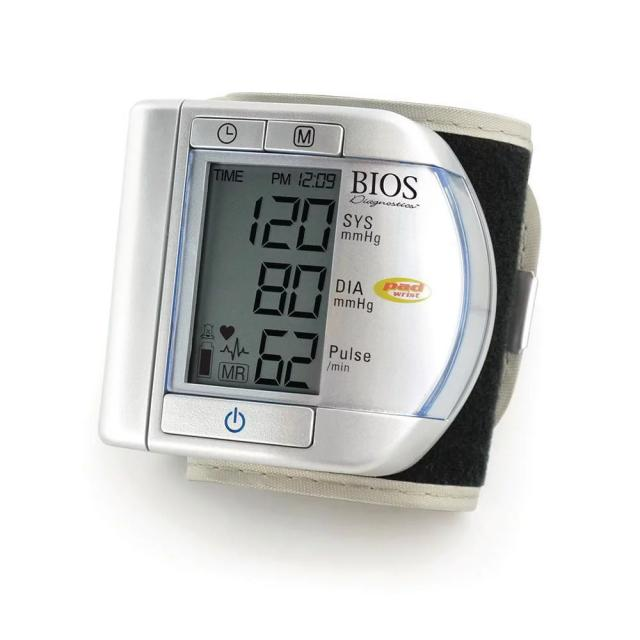dia: (238, 247, 335, 328)
pul: (237, 322, 322, 400)
ssd: (184, 155, 343, 398)
sys: (235, 183, 346, 263)
